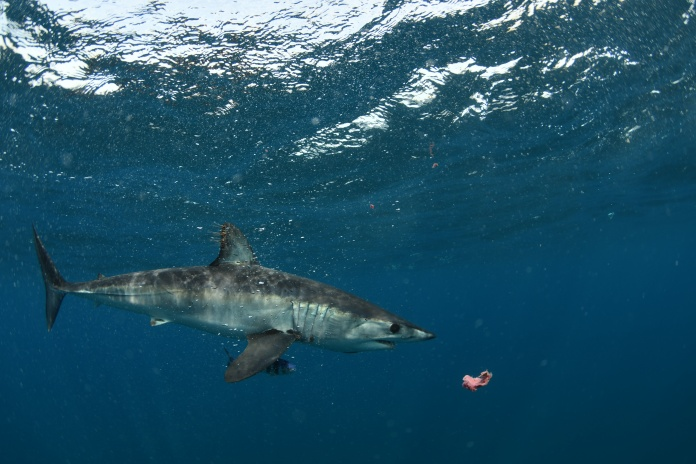Mako: (20, 215, 440, 396)
